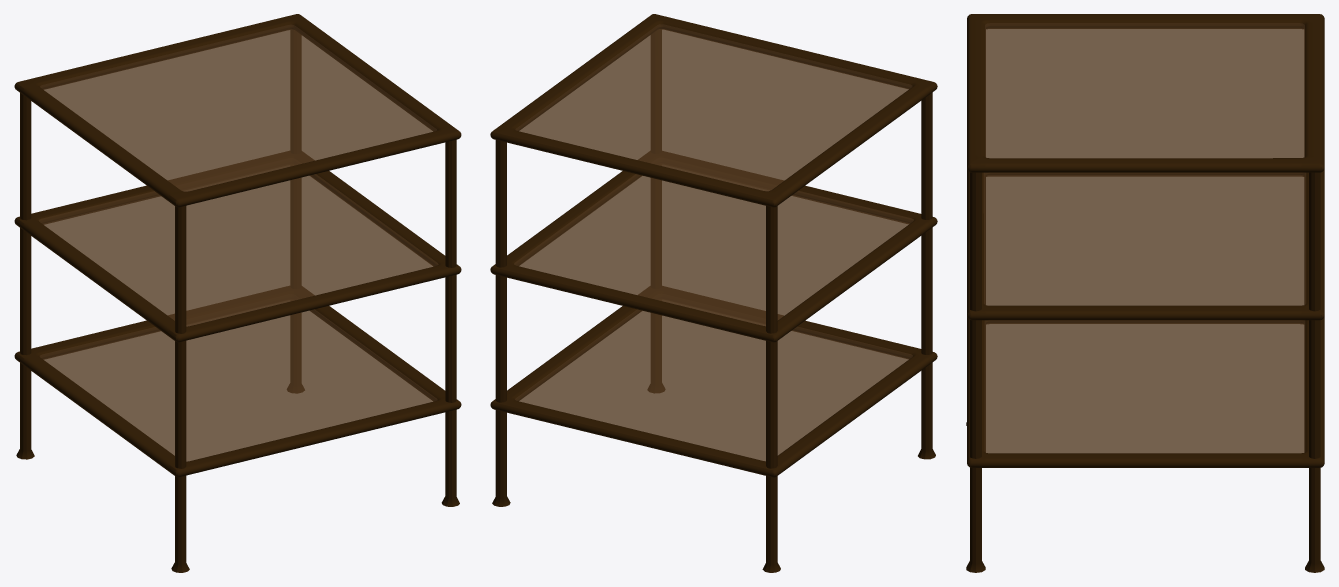
Rendered from shelf1.fbx.
The picture shows the model from 3 angles, left to right: view 1: azimuth 30°, elevation 25°; view 2: azimuth 150°, elevation 25°; view 3: azimuth 270°, elevation 25°; orthographic projection. The views are drawn at different scales.
Parts seen in each view (by area): view 1: shelf1; view 2: shelf1; view 3: shelf1.
Part boxes in pixels (bbox=[...]): shelf1: bbox=[14, 14, 461, 572]; shelf1: bbox=[490, 14, 937, 572]; shelf1: bbox=[966, 14, 1324, 572].
Size of the model in its own units: 0.0215 by 0.0267 by 0.0213.
